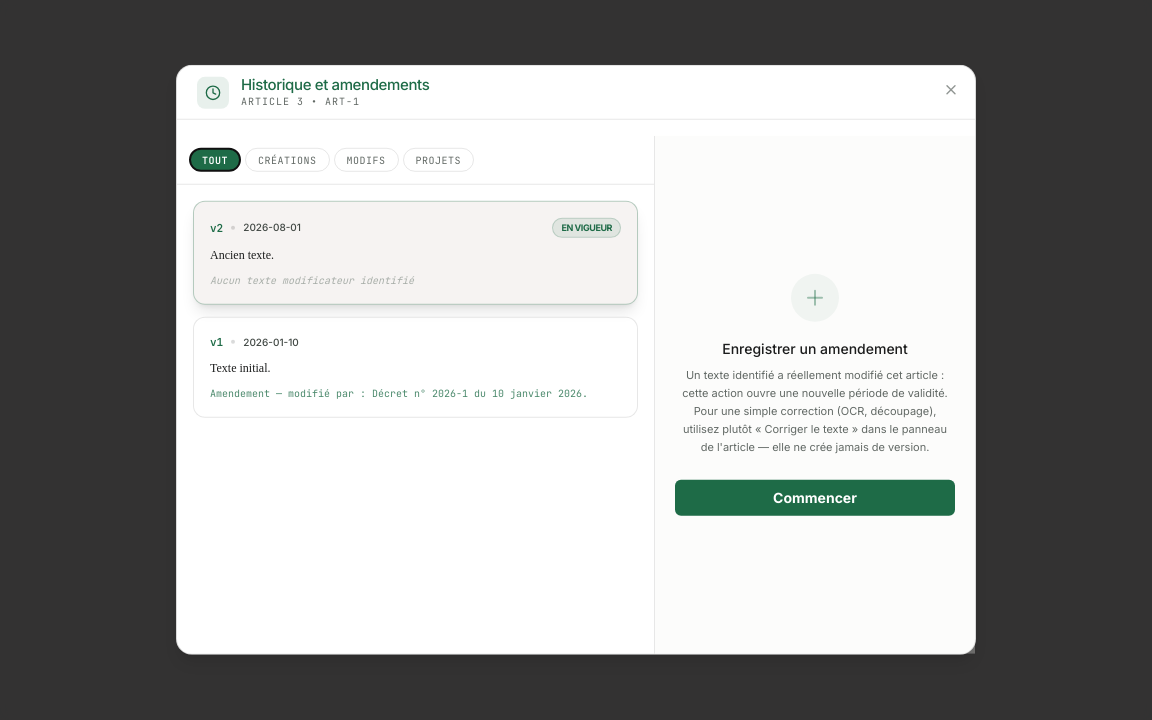
Scenario: affiche le message d'erreur renvoyé par l'API quand l'amendement est refusé (422)
The width and height of the screenshot is (1152, 720).
Click the button "Commencer" at (815, 498), box x1=675 y1=480 x2=955 y2=516
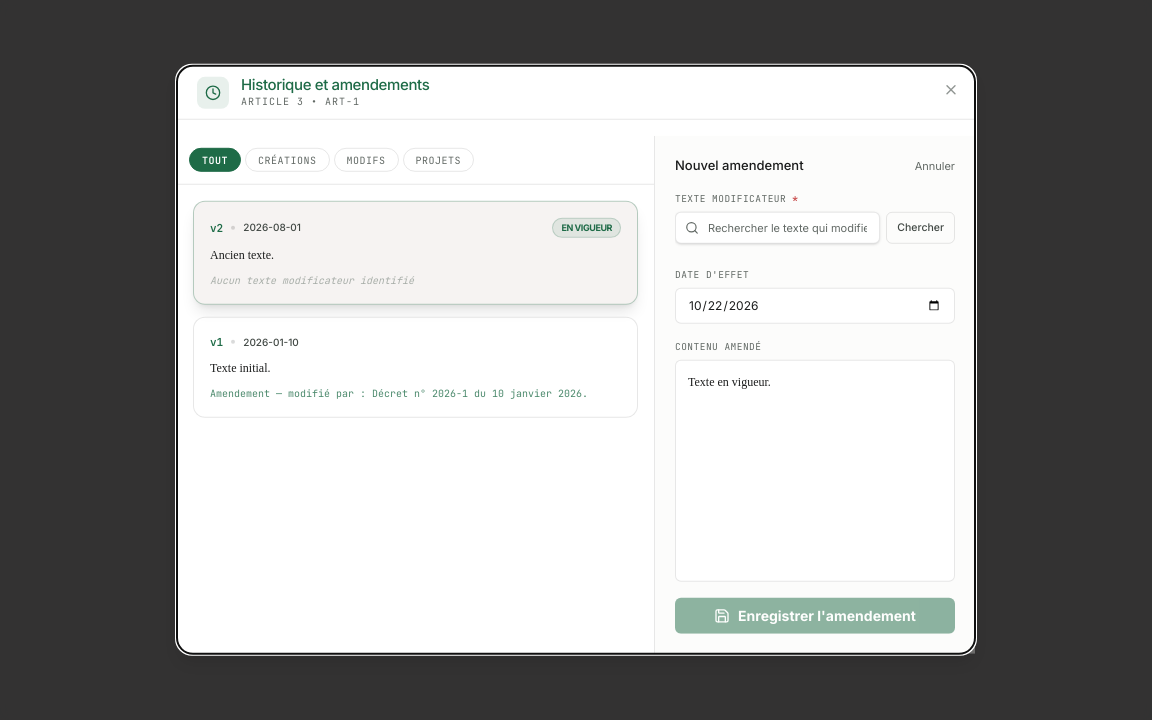
Type "Décret 2026-1" into the field with placeholder "Rechercher le texte qui modifie…" at (778, 228), box x1=675 y1=212 x2=880 y2=244
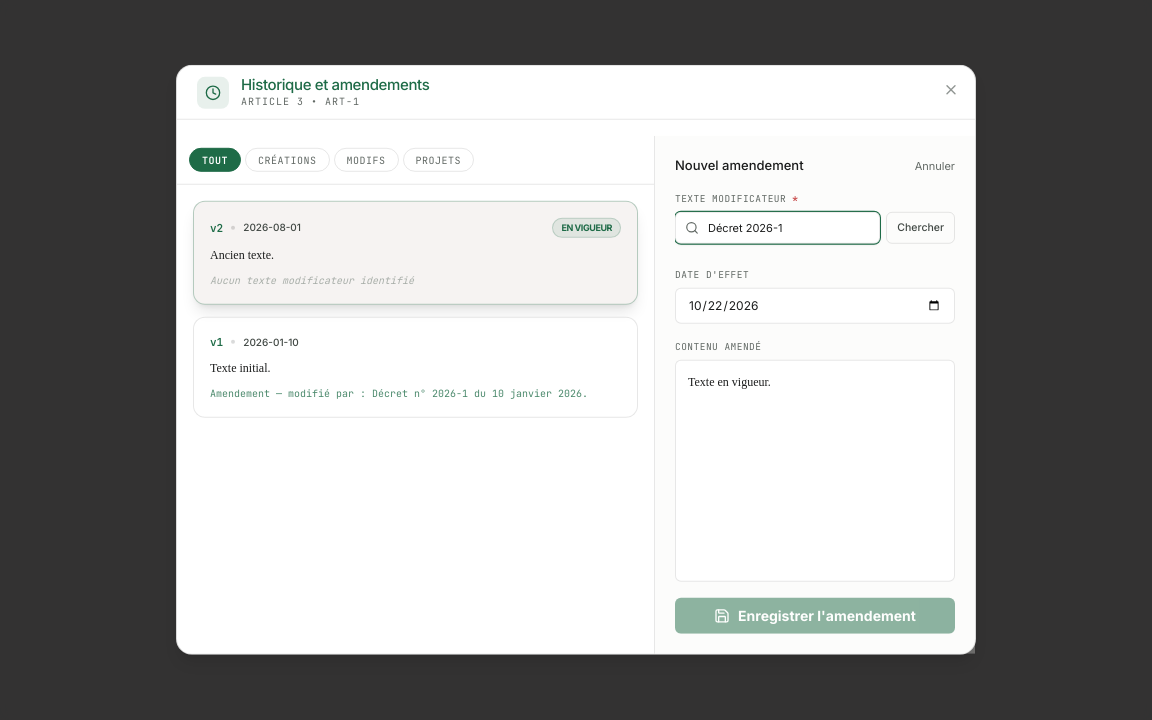
Click the button "Chercher" at (921, 228), box x1=886 y1=212 x2=955 y2=244
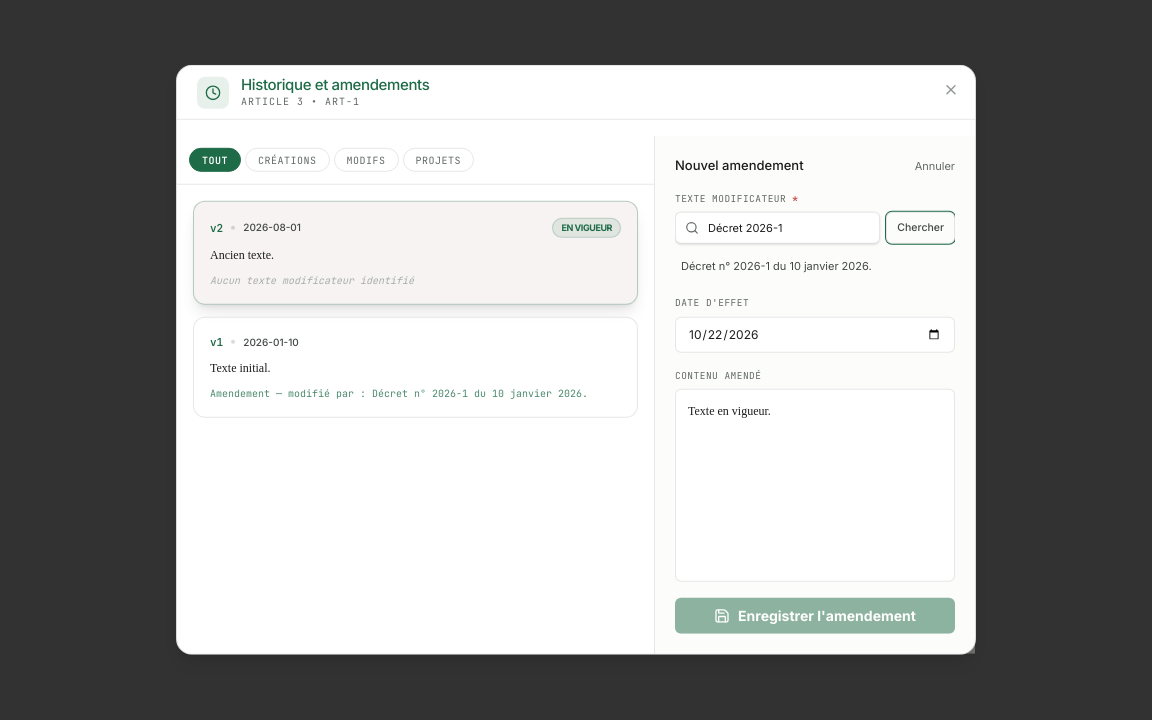
Click the button "Décret n° 2026-1 du 10 janvier 2026." at (815, 266), box x1=675 y1=252 x2=955 y2=280
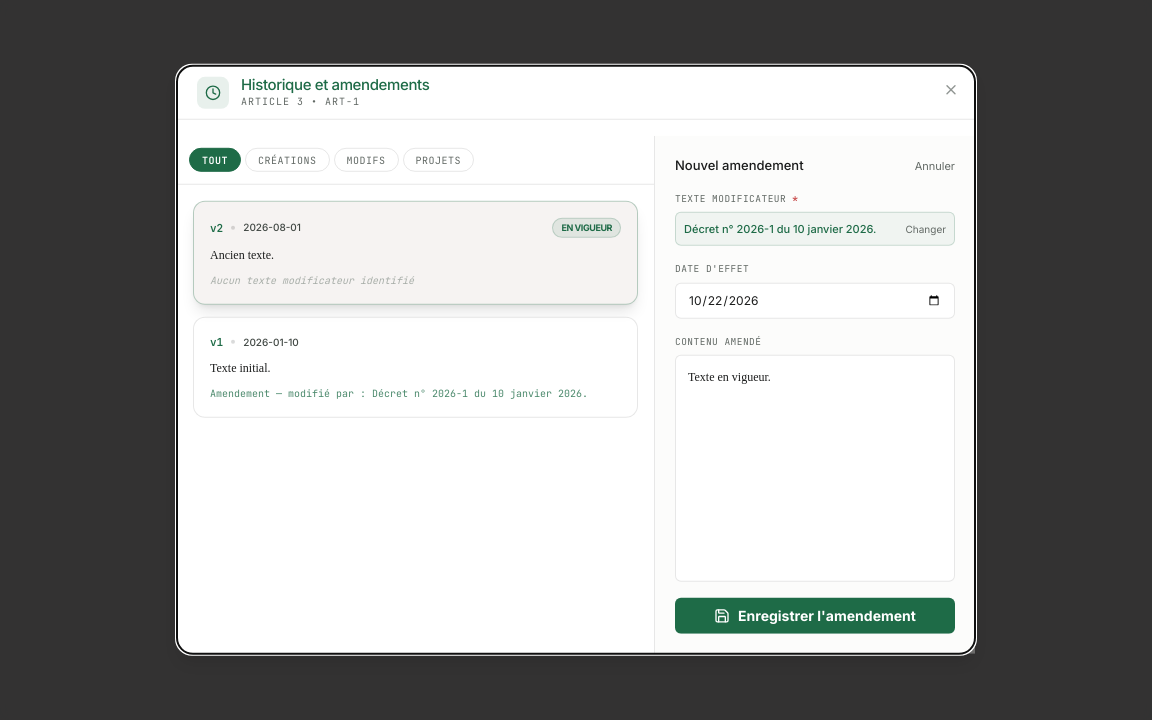
Click the button "Enregistrer l'amendement" at (815, 616), box x1=675 y1=598 x2=955 y2=634
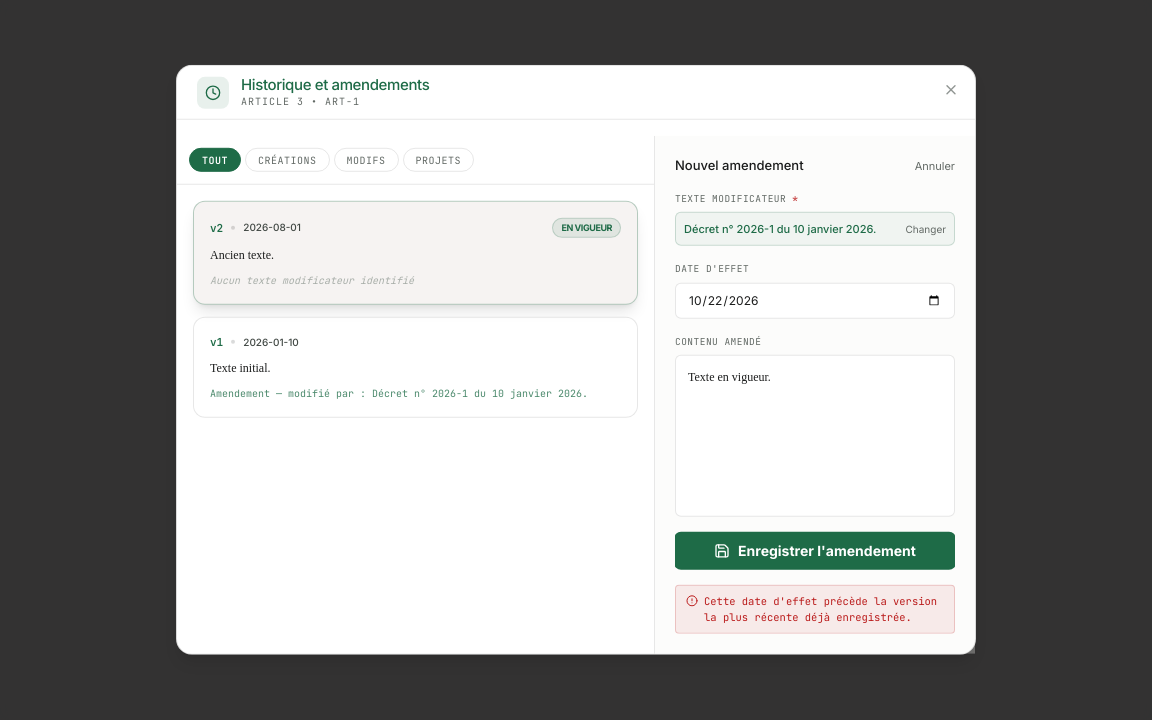
Result: the text "précède la version la plus récente" is shown at x1=704 y1=594 x2=937 y2=624
